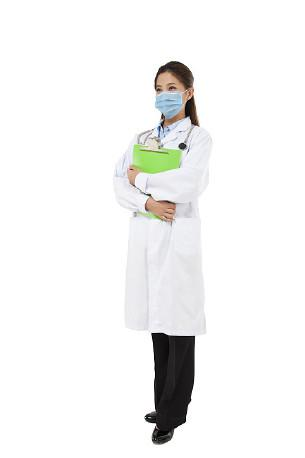OK: (153, 81, 193, 121)
